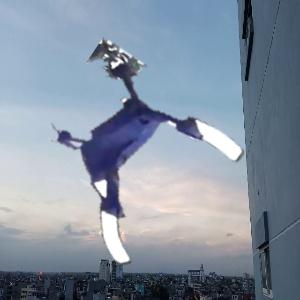drone: (38, 72, 224, 258)
